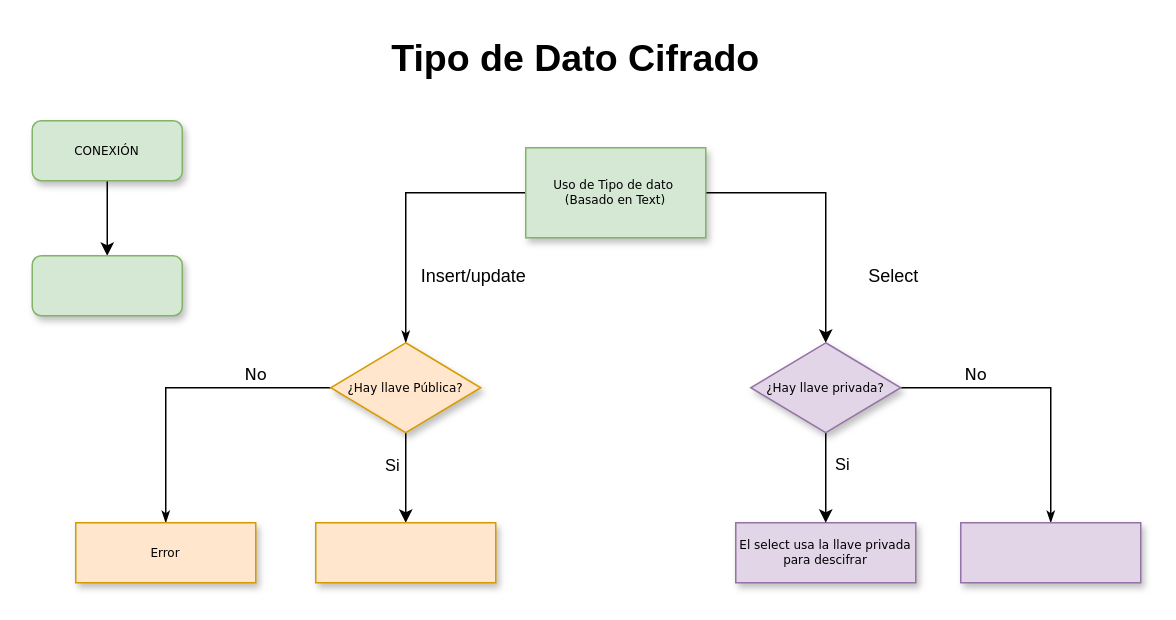
The diagram is 1176 pixels wide and 620 high, and some of its shapes have lost their labels. The centre of each missing label's shape, as x and y in pixels:
Agregar Llaves: point 108,287
El insert usa la llave pública para cifrar: point 406,554
Muestra cadena cifrada: point 1051,554
